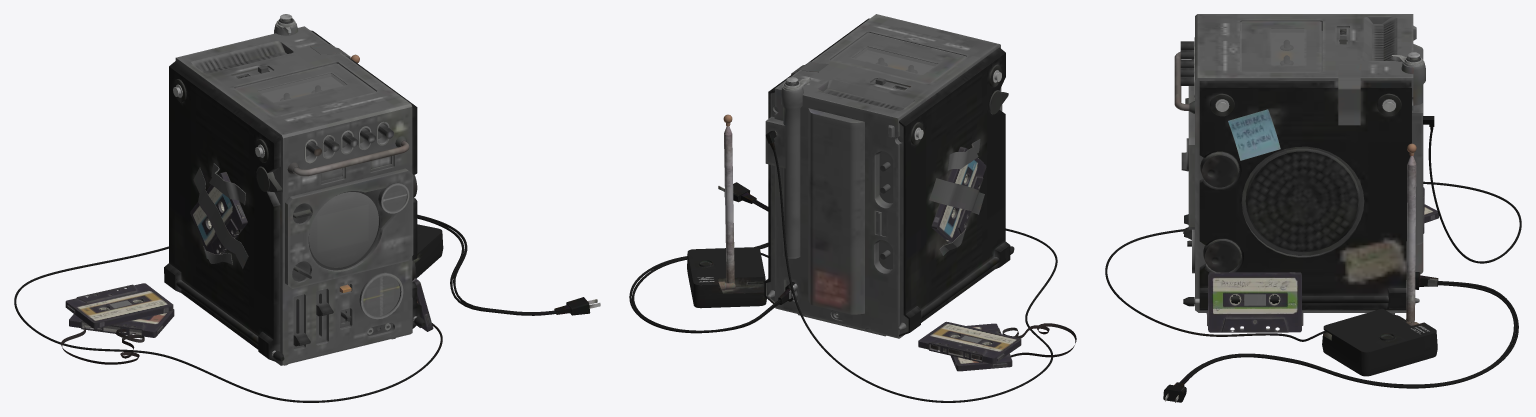
File: cinema-camera.glb
3 renders of one model, left to right at view 1: azimuth 30°, elevation 25°; view 2: azimuth 150°, elevation 25°; view 3: azimuth 270°, elevation 25°, orthographic. The views are drawn at different scales.
Parts seen in each view (by area): view 1: Object_7, Object_4, Object_6, Object_5; view 2: Object_7, Object_5, Object_6, Object_4; view 3: Object_7, Object_5, Object_6, Object_4.
Boxes of the visible parts, x1,y1,x2,y2 form: Object_7: (164, 14, 425, 365); Object_4: (109, 73, 407, 316); Object_6: (61, 172, 433, 364); Object_5: (14, 44, 600, 402); Object_7: (764, 14, 1014, 338); Object_5: (629, 61, 1057, 402); Object_6: (918, 146, 1076, 371); Object_4: (853, 47, 981, 342); Object_7: (1174, 14, 1425, 314); Object_5: (1105, 64, 1521, 402); Object_6: (1206, 187, 1438, 332); Object_4: (1244, 29, 1304, 305).
Bounding box in the file's own units: 0.1521 × 0.0817 × 0.1199.
5 materials, 5 textured.
